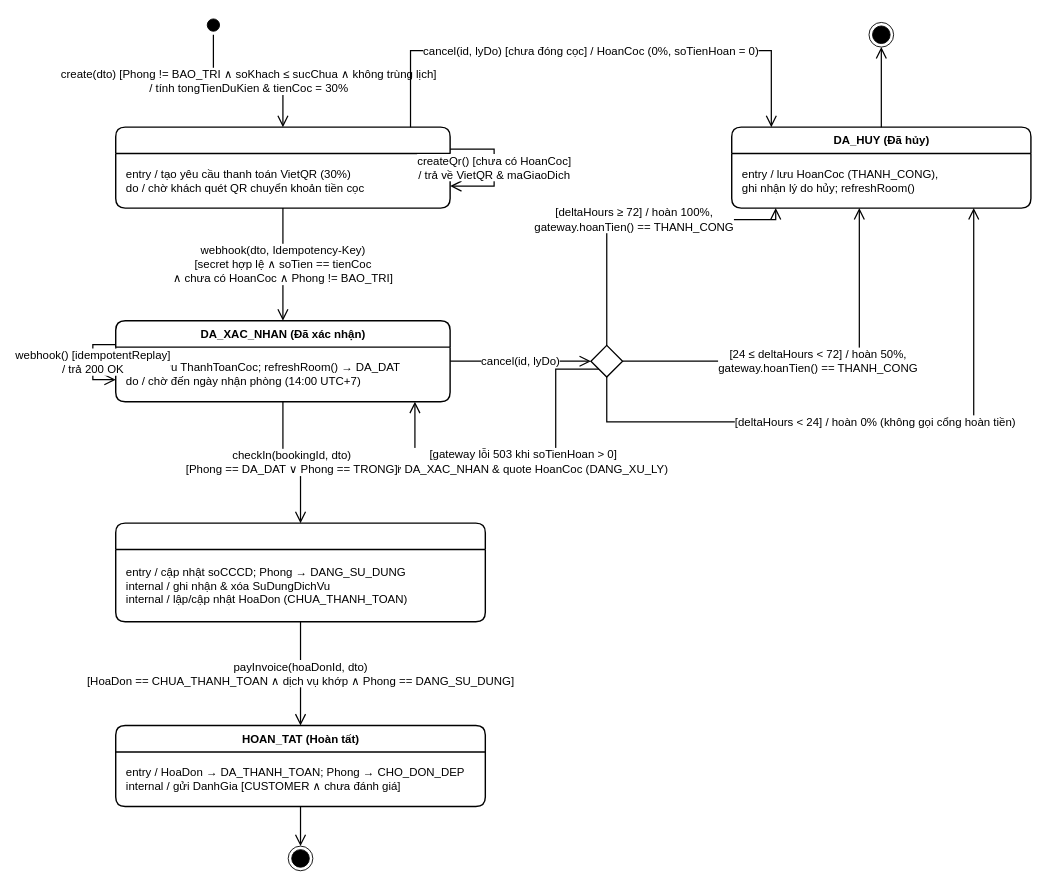
This 1046x886 diagram has some shape labels left out. Here are the shapes that lost their labels. From the top down, the box of each, then its label:
(115, 126, 450, 208): CHO_COC (Chờ cọc)
(115, 522, 486, 622): DANG_LUU_TRU (Đang lưu trú)
